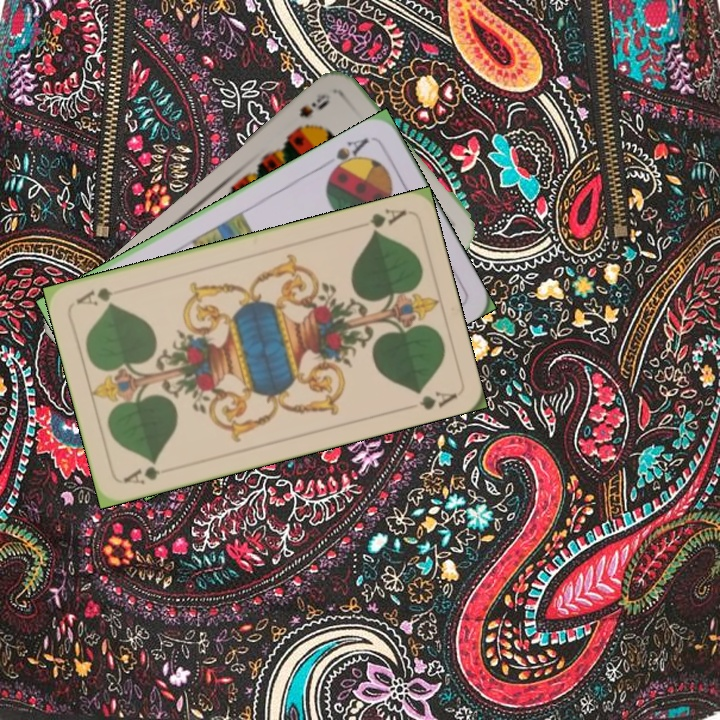GA: (119, 457, 177, 487), (366, 204, 410, 236)
S9: (289, 89, 333, 135)
SA: (325, 133, 372, 178)
